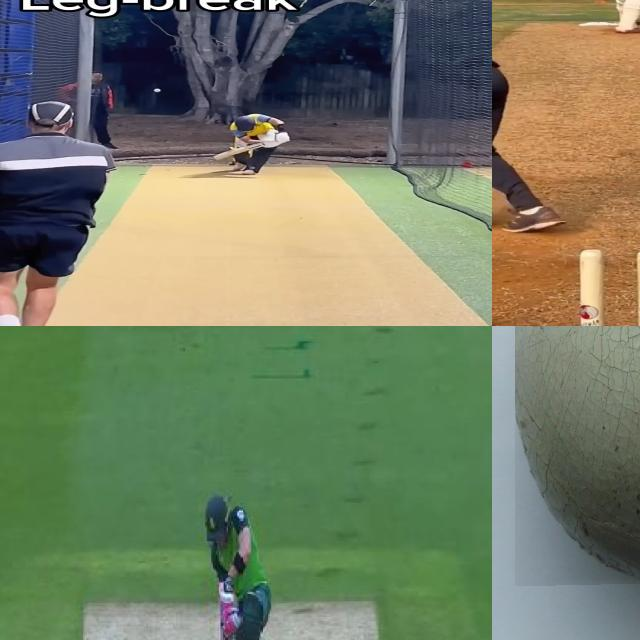Cricket ball: (515, 326, 640, 587), (153, 88, 161, 93)
